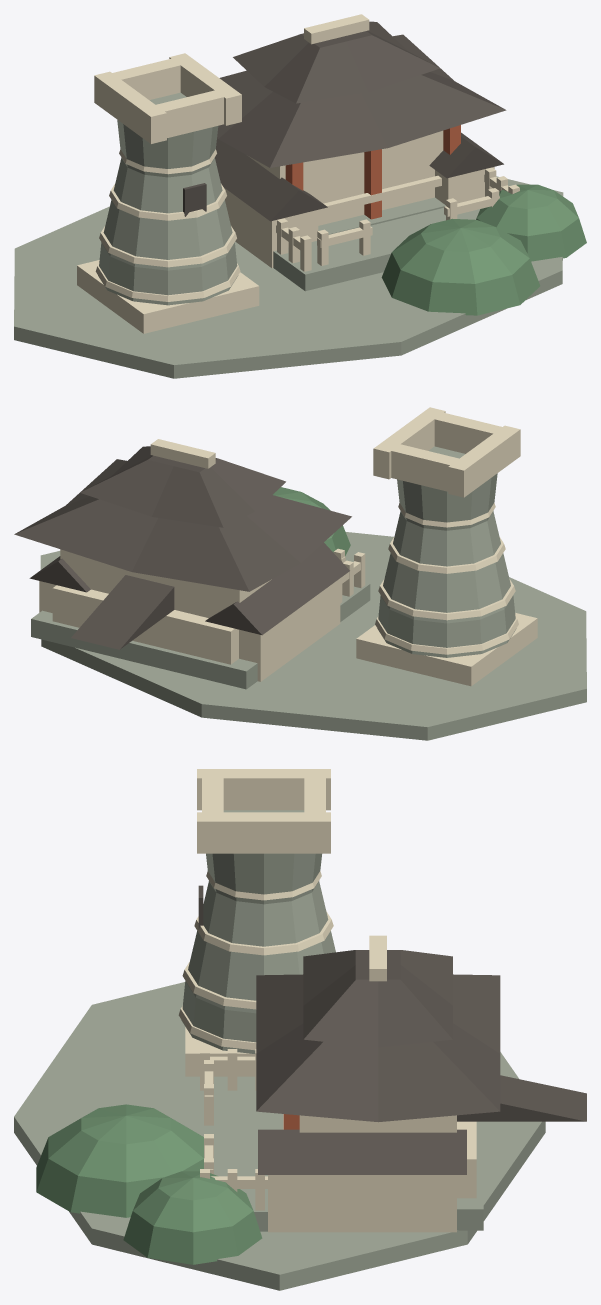
Rendered from geumseong.glb.
3 views of the same model, one above another, from view 1: azimuth 30°, elevation 25°; view 2: azimuth 150°, elevation 25°; view 3: azimuth 270°, elevation 25° (orthographic). The views are drawn at different scales.
Visible parts, largest first — view 1: geumseong_stone, geumseong_cream, geumseong_deep_shadow, geumseong_foliage, geumseong_terracotta; view 2: geumseong_stone, geumseong_deep_shadow, geumseong_cream, geumseong_foliage; view 3: geumseong_stone, geumseong_deep_shadow, geumseong_cream, geumseong_foliage.
Part boxes in pixels (<box>): geumseong_stone: <box>14,92,563,378</box>; geumseong_cream: <box>77,14,519,333</box>; geumseong_deep_shadow: <box>183,21,506,221</box>; geumseong_foliage: <box>381,184,586,315</box>; geumseong_terracotta: <box>285,125,460,219</box>; geumseong_stone: <box>31,446,586,740</box>; geumseong_deep_shadow: <box>14,446,351,649</box>; geumseong_cream: <box>39,407,537,686</box>; geumseong_foliage: <box>273,487,350,556</box>; geumseong_stone: <box>14,810,545,1290</box>; geumseong_deep_shadow: <box>198,885,586,1174</box>; geumseong_cream: <box>178,769,476,1232</box>; geumseong_foliage: <box>36,1104,262,1264</box>.
Bounding box in the file's own units: 2.1 × 0.8179 × 1.61.
